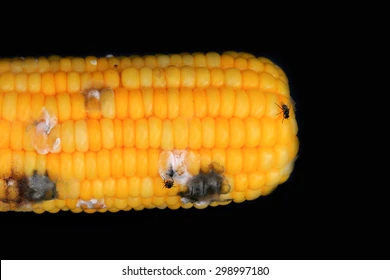rotten corn: (4, 54, 311, 228)
